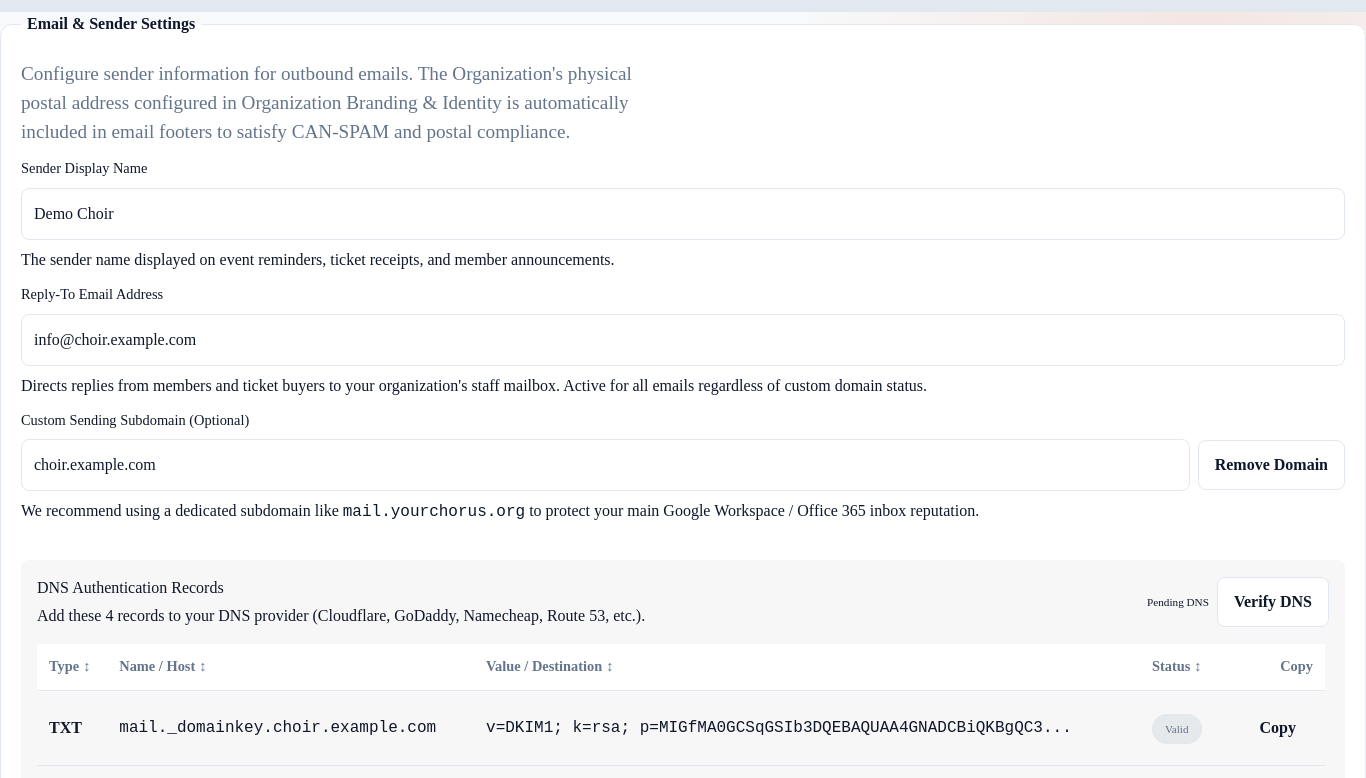
it: OrganizationEmailSettingsPanel DNS table › copies record value to clipboard with accessible button label
The image size is (1366, 778).
Expected: the heading "DNS Authentication Records" is shown, x1=37 y1=579 x2=224 y2=596
Click the button with aria-label "Copy value for TXT record mail._domainkey.choir.example.com" at [1278, 728], box x1=1242 y1=703 x2=1313 y2=753
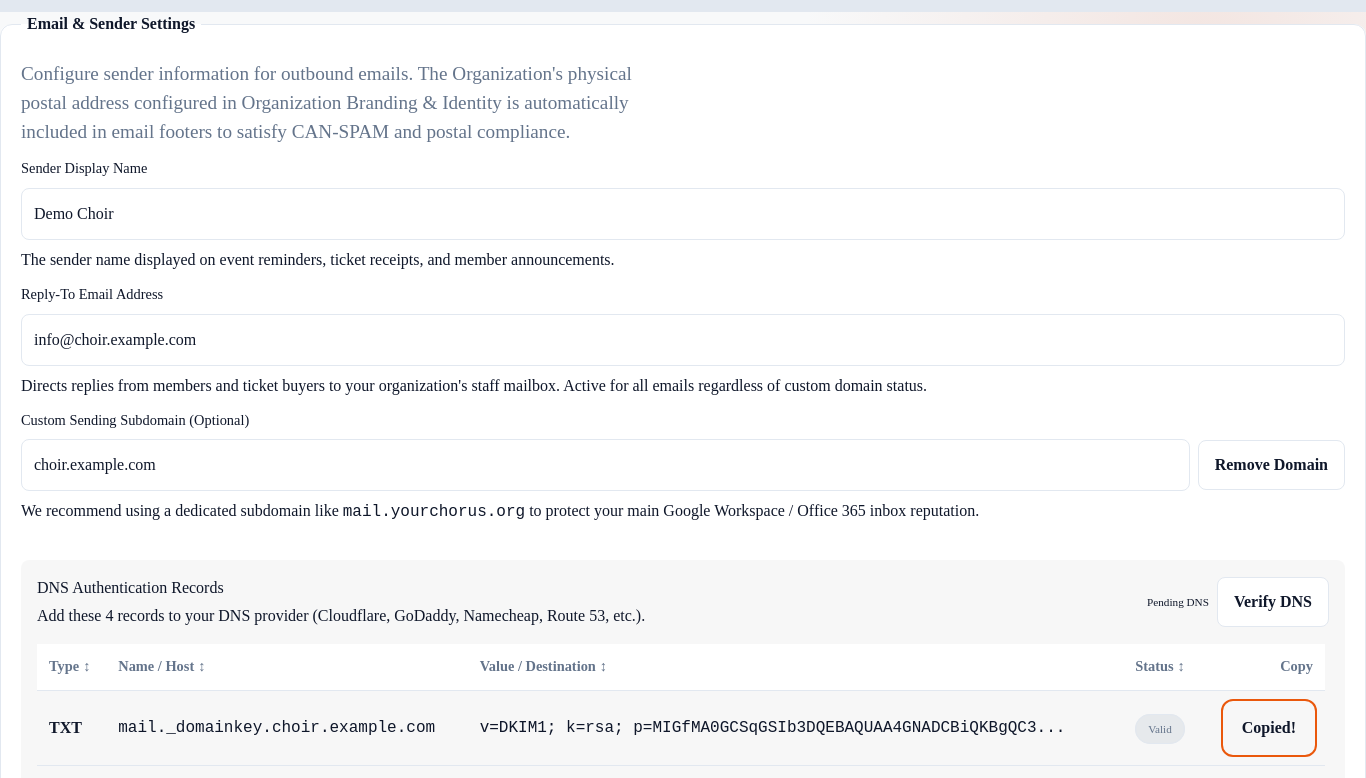
Now the button named "Copy value for TXT record mail._domainkey.choir.example.com" reads "Copied!", box x1=1225 y1=703 x2=1313 y2=753
